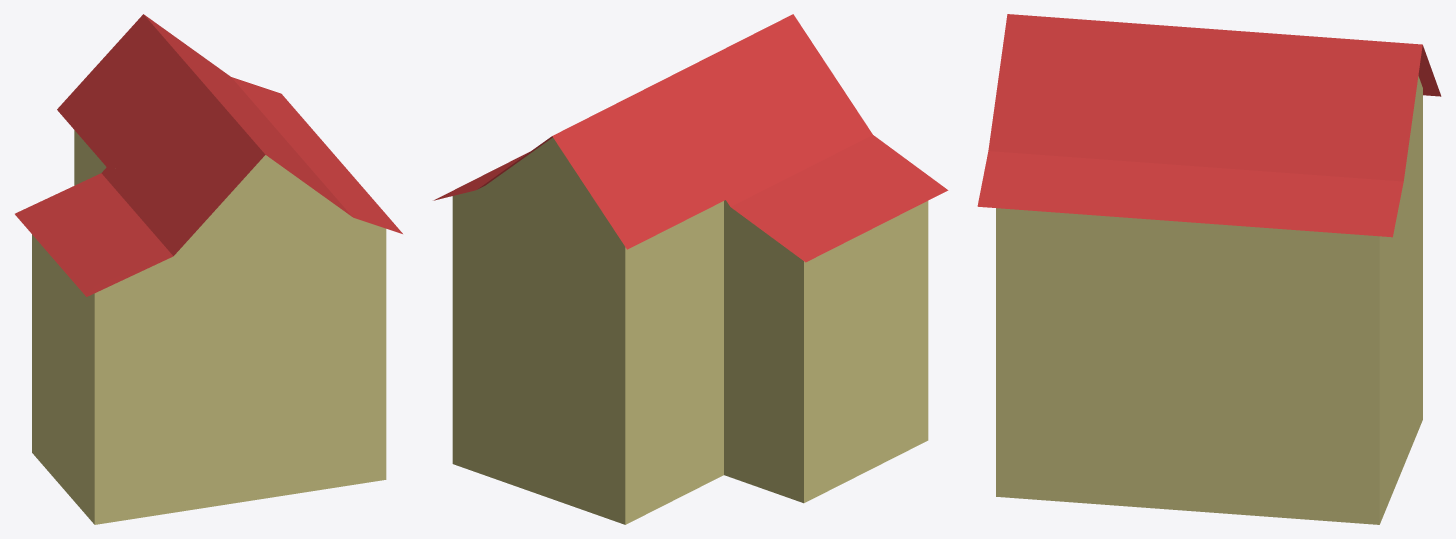
3 views of the same model, side by side, from view 1: azimuth 30°, elevation 25°; view 2: azimuth 150°, elevation 25°; view 3: azimuth 270°, elevation 25° (orthographic). The views are drawn at different scales.
Bounding box in the file's own units: 14.45 × 14.34 × 14.18.
